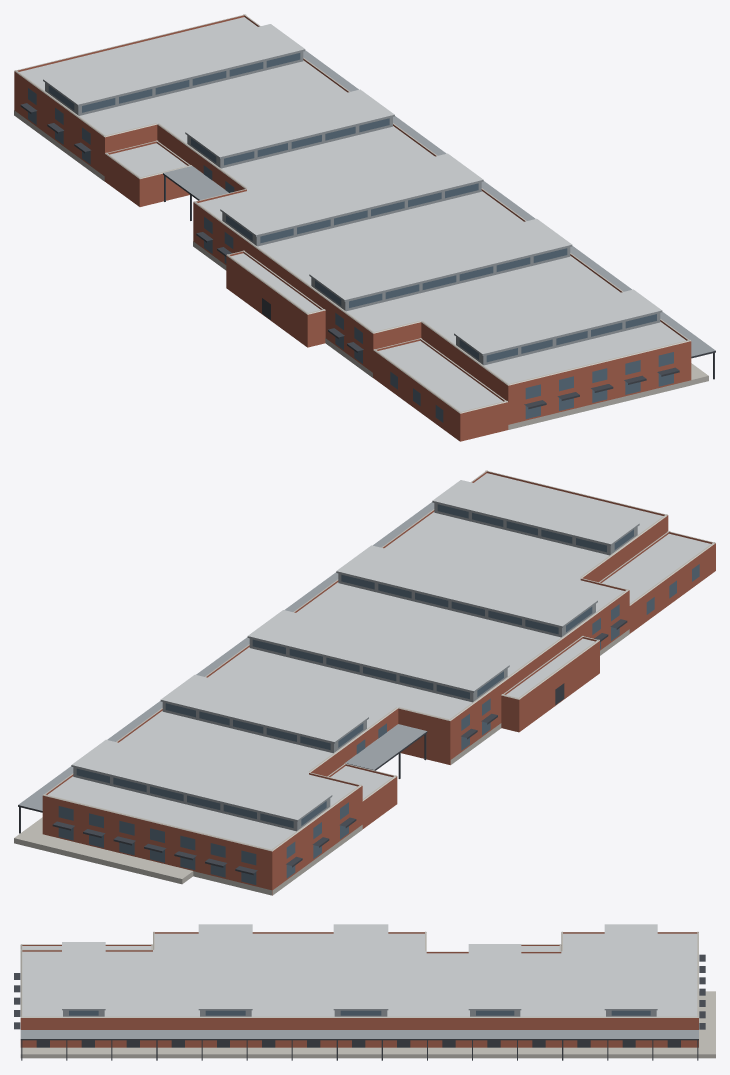
Rendered from clt-cne-201-camp-road.glb.
3 renders of one model, top to bottom at view 1: azimuth 30°, elevation 25°; view 2: azimuth 150°, elevation 25°; view 3: azimuth 270°, elevation 25°, orthographic. The views are drawn at different scales.
Visible parts, largest first — view 1: 201 Camp Road, Camp North End; view 2: 201 Camp Road, Camp North End; view 3: 201 Camp Road, Camp North End.
Boxes of the visible parts, box(x1,y1,x2,y2) form: 201 Camp Road, Camp North End: box(14, 14, 715, 441); 201 Camp Road, Camp North End: box(14, 470, 715, 895); 201 Camp Road, Camp North End: box(14, 924, 715, 1060).
Bounding box in the file's own units: 65.15 × 12.6 × 190.
